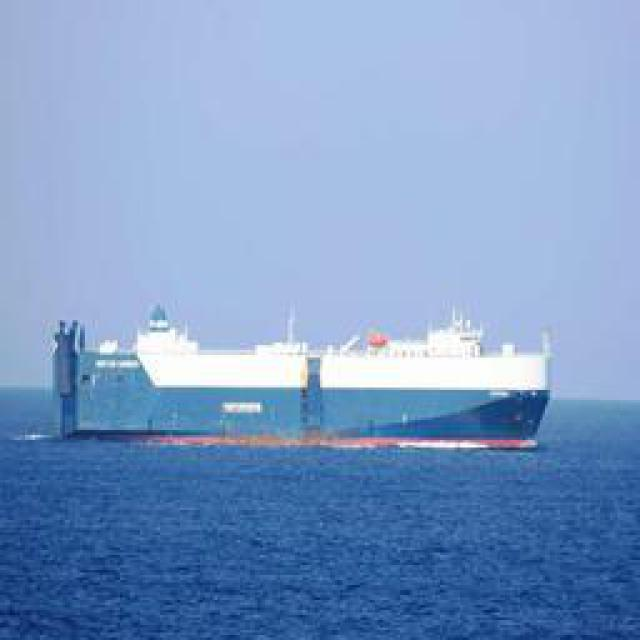Ship: (71, 308, 556, 446)
